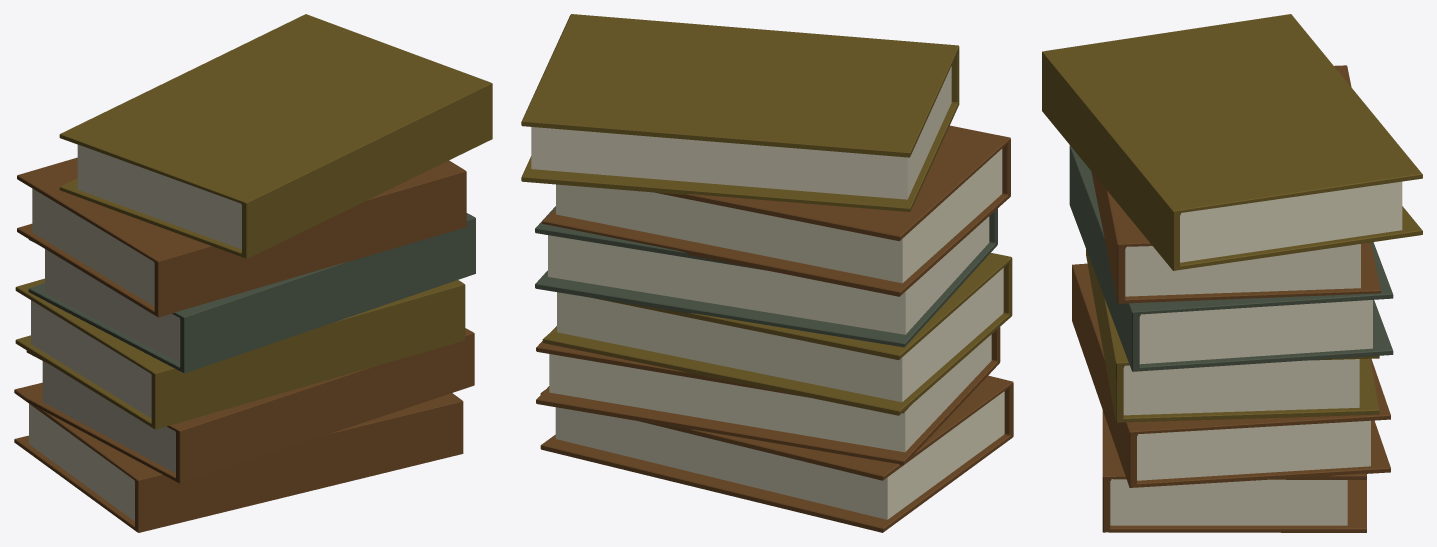
File: Books_Top01.fbx
The picture shows the model from 3 angles, left to right: view 1: azimuth 30°, elevation 25°; view 2: azimuth 150°, elevation 25°; view 3: azimuth 270°, elevation 25°; orthographic projection. The views are drawn at different scales.
Visible parts, largest first — view 1: Book_cover (×6), book_paper (×6); view 2: book_paper (×6), Book_cover (×6); view 3: Book_cover (×6), book_paper (×6).
Part boxes in pixels (bbox=[...]): Book_cover (×6): bbox=[14, 14, 492, 532]; book_paper (×6): bbox=[29, 145, 241, 521]; book_paper (×6): bbox=[531, 66, 1004, 519]; Book_cover (×6): bbox=[521, 14, 1013, 532]; Book_cover (×6): bbox=[1042, 14, 1422, 532]; book_paper (×6): bbox=[1110, 181, 1402, 525].
Size of the model in its own units: 655 by 528 by 513.
